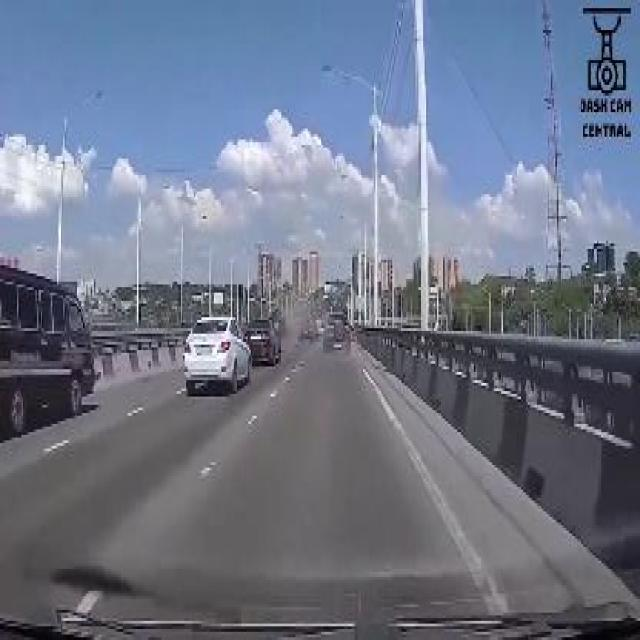accident: (266, 301, 286, 339)
